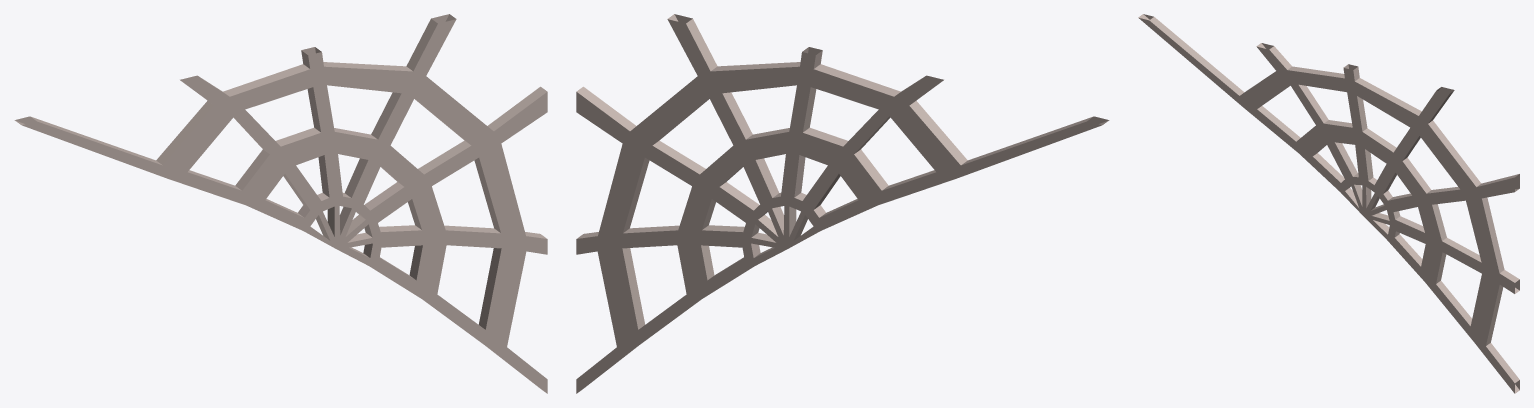
File: toile daraignee.FBX
The picture shows the model from 3 angles, left to right: view 1: azimuth 30°, elevation 25°; view 2: azimuth 150°, elevation 25°; view 3: azimuth 330°, elevation 25°; orthographic projection. The views are drawn at different scales.
Parts seen in each view (by area): view 1: toile daraignee; view 2: toile daraignee; view 3: toile daraignee.
Part boxes in pixels (x1,y1,x2,y2): toile daraignee: [14, 14, 547, 393]; toile daraignee: [576, 14, 1109, 393]; toile daraignee: [1138, 14, 1519, 393].
Size of the model in its own units: 113 by 81.5 by 2.6.
Materials: 1 (1 with a texture image).
